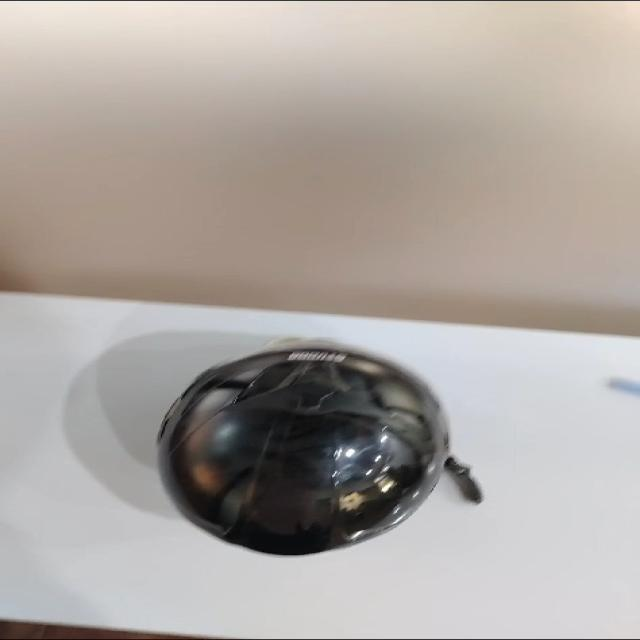helmet: (157, 338, 442, 566)
